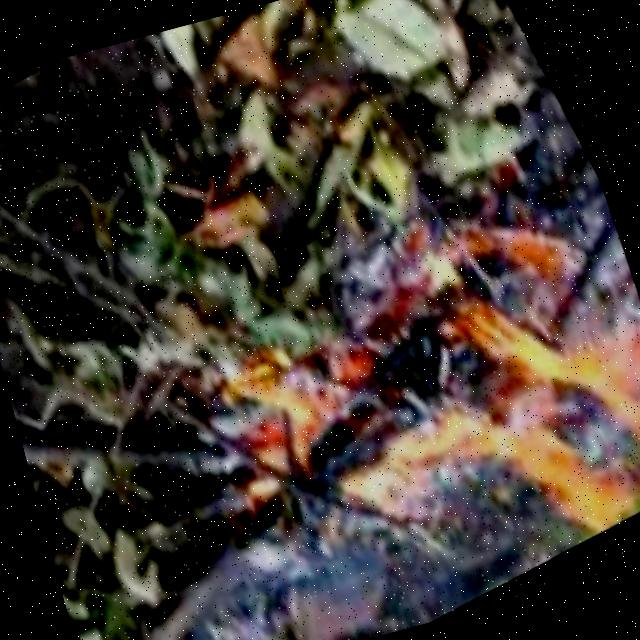fire: (180, 185, 640, 640)
